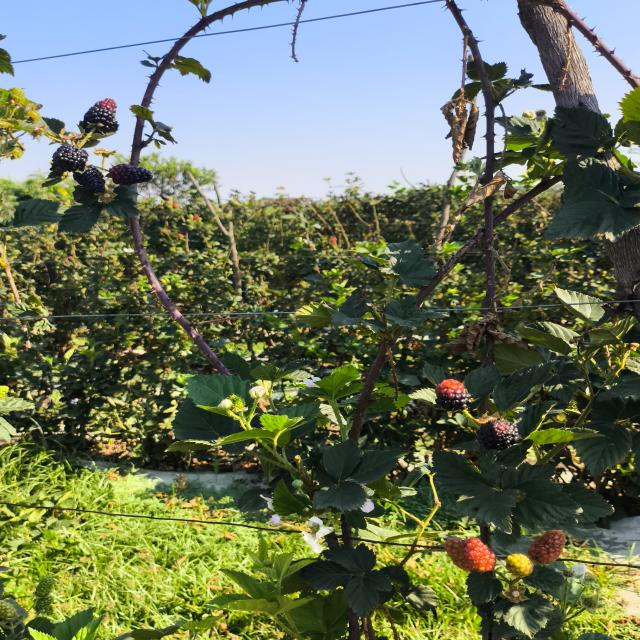maduro: (107, 164, 153, 185), (52, 145, 88, 171), (73, 166, 105, 194)
marron: (477, 418, 520, 450), (80, 99, 118, 133), (435, 379, 471, 410)
naranja: (444, 538, 495, 572), (528, 530, 566, 564)
verde: (506, 553, 533, 577)
